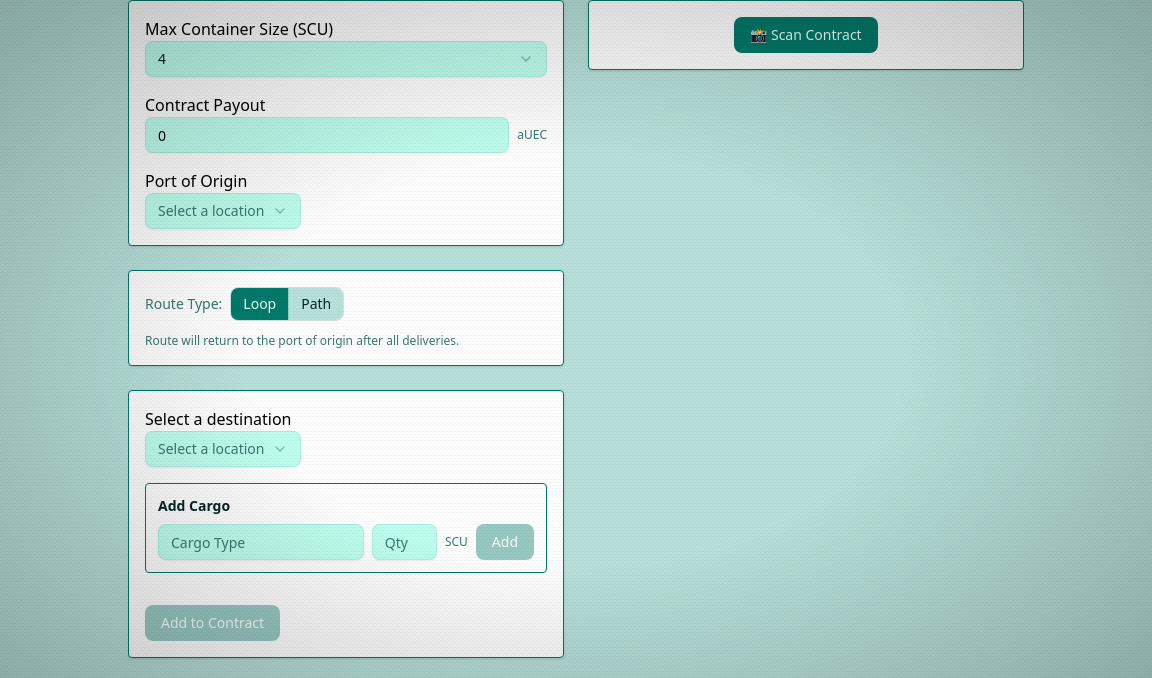
ContractForm › Route Type Toggle › should show end location selector when Path is selected
This screenshot has width=1152, height=678.
Click the button "Path" at (316, 304), box [288,288,343,320]
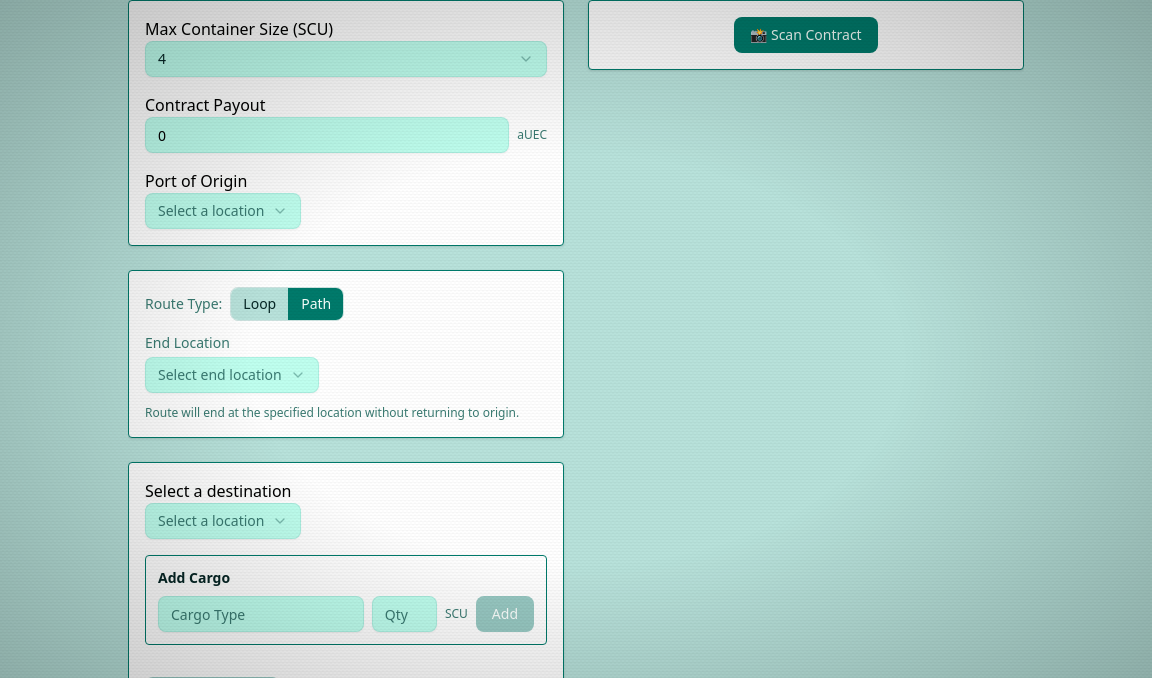
Expected: the text "End Location" is shown, [145,333,230,352]
Expected: the text "Route will end at the specified location" is shown, [145,404,519,421]
